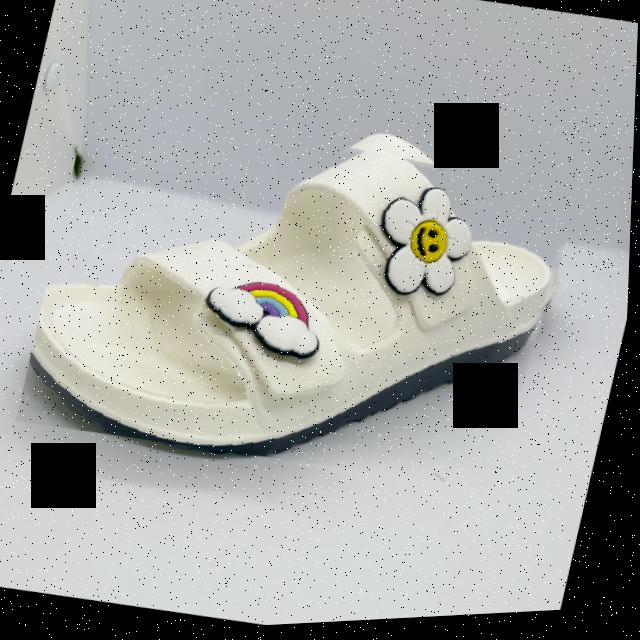shoe: (16, 77, 590, 519)
